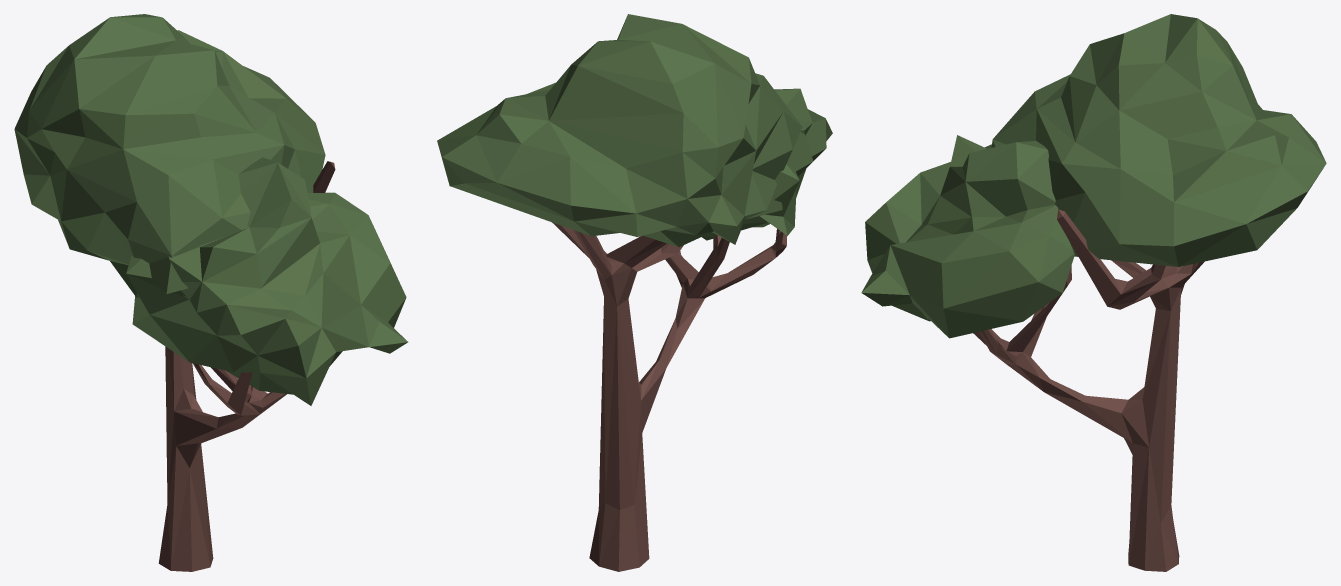
File: CommonTree_2.lod2.glb
The picture shows the model from 3 angles, left to right: view 1: azimuth 30°, elevation 25°; view 2: azimuth 150°, elevation 25°; view 3: azimuth 270°, elevation 25°; orthographic projection. The views are drawn at different scales.
Parts seen in each view (by area): view 1: CommonTree_2; view 2: CommonTree_2; view 3: CommonTree_2.
Boxes of the visible parts, x1=… form: CommonTree_2: x1=14, y1=14, x2=408, y2=571; CommonTree_2: x1=437, y1=14, x2=832, y2=571; CommonTree_2: x1=861, y1=14, x2=1326, y2=571.
Size of the model in its own units: 1.66 by 3.12 by 2.54.
